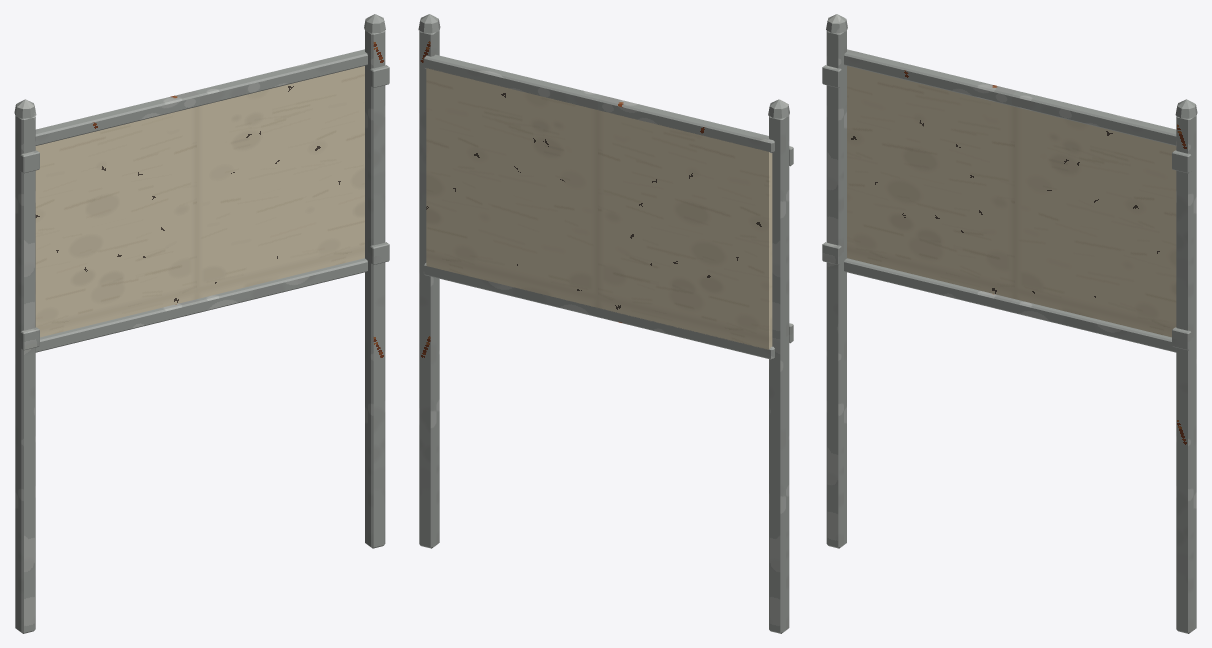
The model's file is sign_posts.glb.
3 renders of one model, left to right at view 1: azimuth 30°, elevation 25°; view 2: azimuth 150°, elevation 25°; view 3: azimuth 330°, elevation 25°, orthographic.
Visible parts, largest first — view 1: p; view 2: p; view 3: p.
Boxes of the visible parts, x1,y1,x2,y2 form: p: [14, 14, 389, 633]; p: [418, 14, 793, 633]; p: [822, 14, 1197, 633].
Bounding box in the file's own units: 1.31 × 1.8 × 0.08.
Materials: 2 (2 with a texture image).
